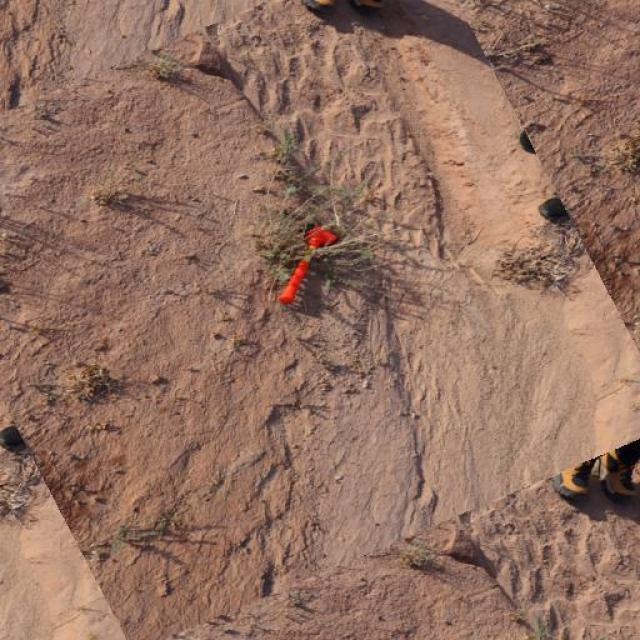mallet: (276, 224, 338, 305)
